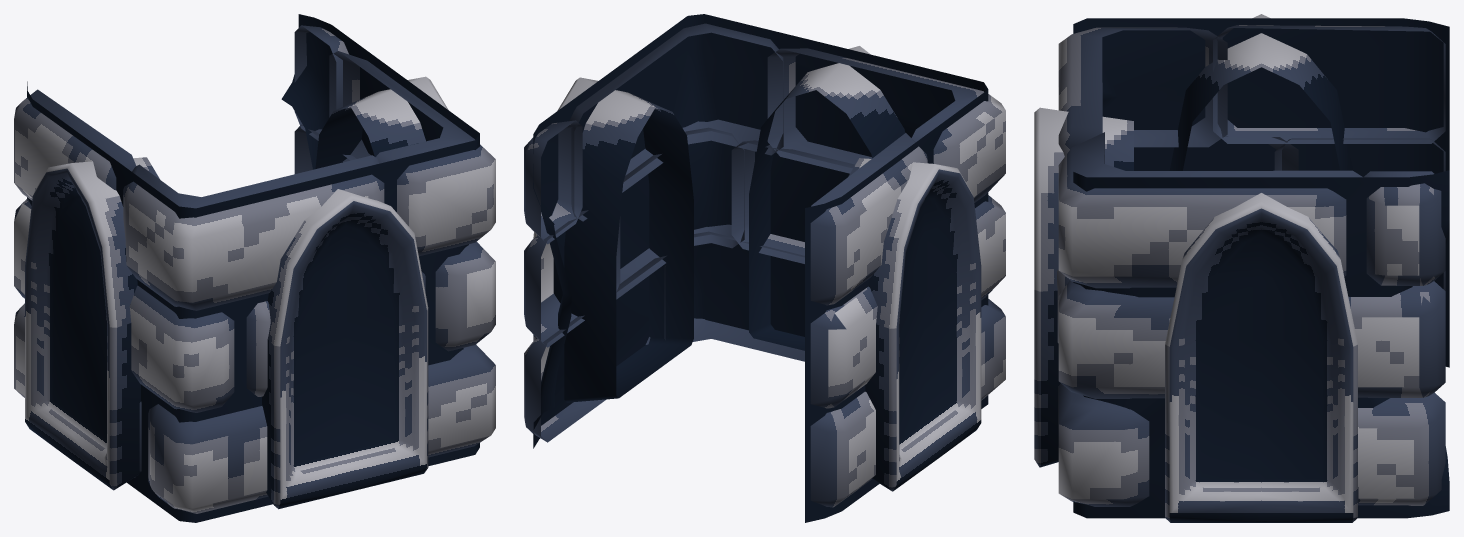
Rendered from tower_part_window_01.fbx.
3 views of the same model, side by side, from view 1: azimuth 30°, elevation 25°; view 2: azimuth 150°, elevation 25°; view 3: azimuth 270°, elevation 25° (orthographic). The views are drawn at different scales.
Visible parts, largest first — view 1: tower_window_3; view 2: tower_window_3; view 3: tower_window_3.
Part boxes in pixels (left/top/right/bottom): tower_window_3: left=14, top=14, right=495, bottom=522; tower_window_3: left=524, top=14, right=1005, bottom=522; tower_window_3: left=1034, top=14, right=1449, bottom=522.
Size of the model in its own units: 242 by 221 by 200.
Materials: 2 (2 with a texture image).
